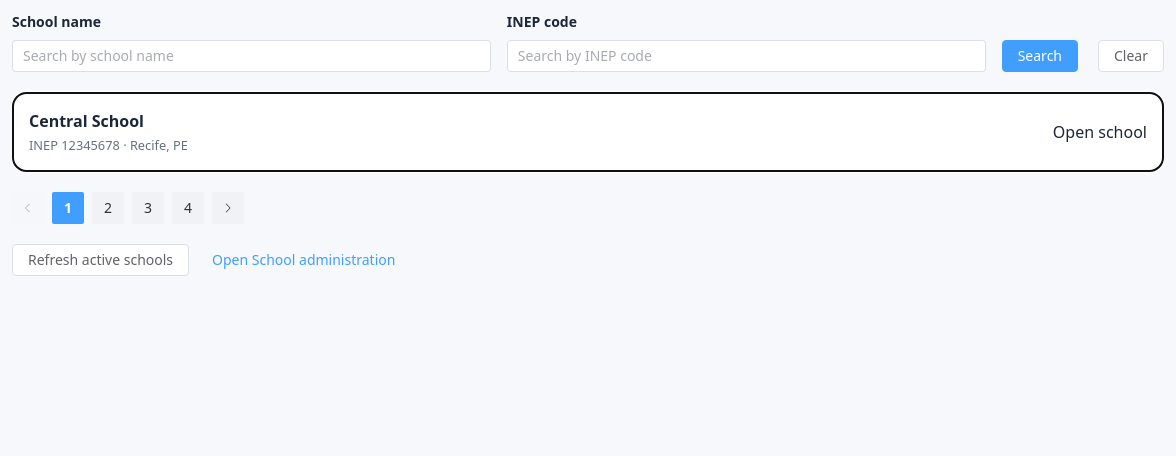
it: SchoolContextSelector › renders loading, empty, filtered-empty, and pagination states distinctly
The image size is (1176, 456).
expect the element showing "1 2 3 4" is shown: met, box [12,192,244,224]
Type "Missing" into the field labelled "School name" at (251, 56), box [23,41,480,71]
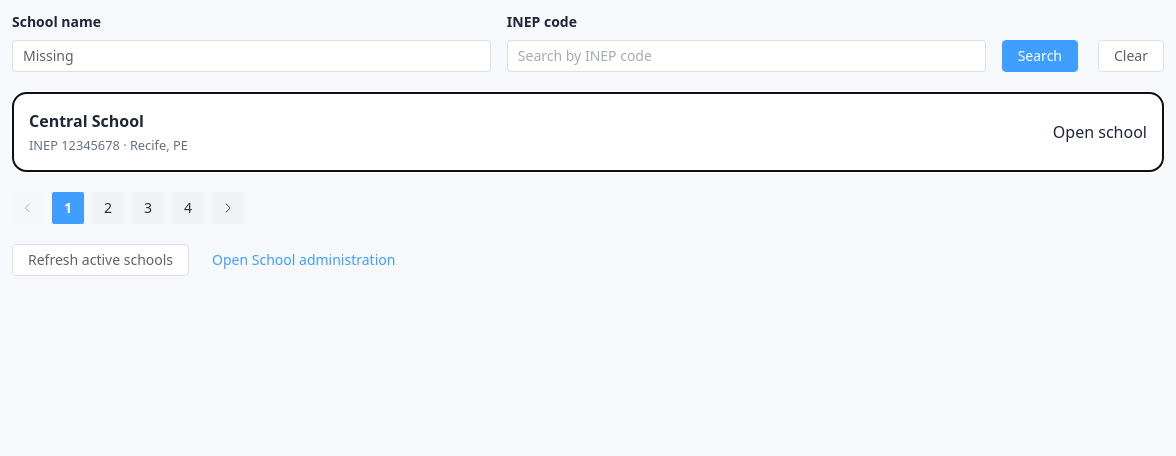
Press Enter in the field labelled "School name", box [23,41,480,71]
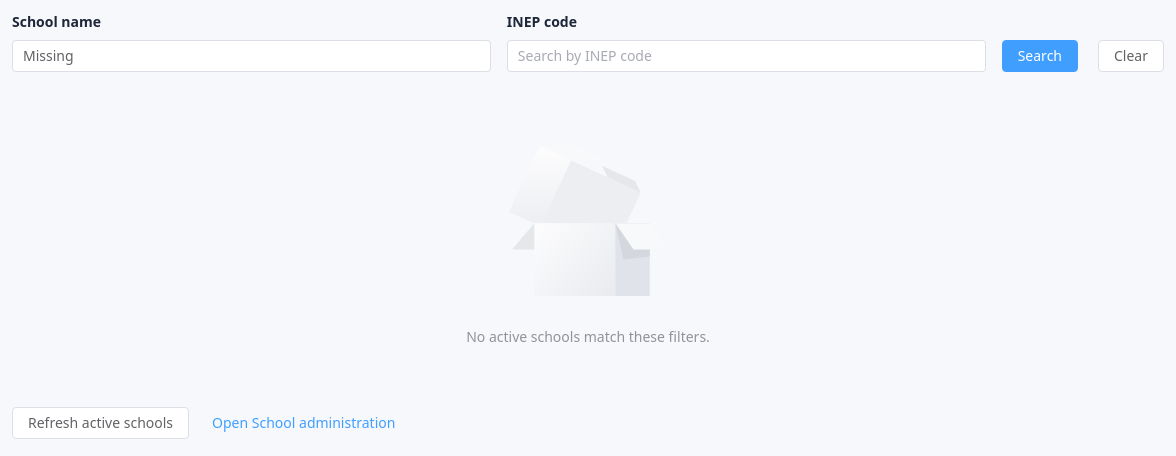
expect the text "No active schools match these filters" is shown: met, box [466,327,710,346]
Click the button with test id "clear-school-filters" at (1131, 56), box [1098,40,1164,72]
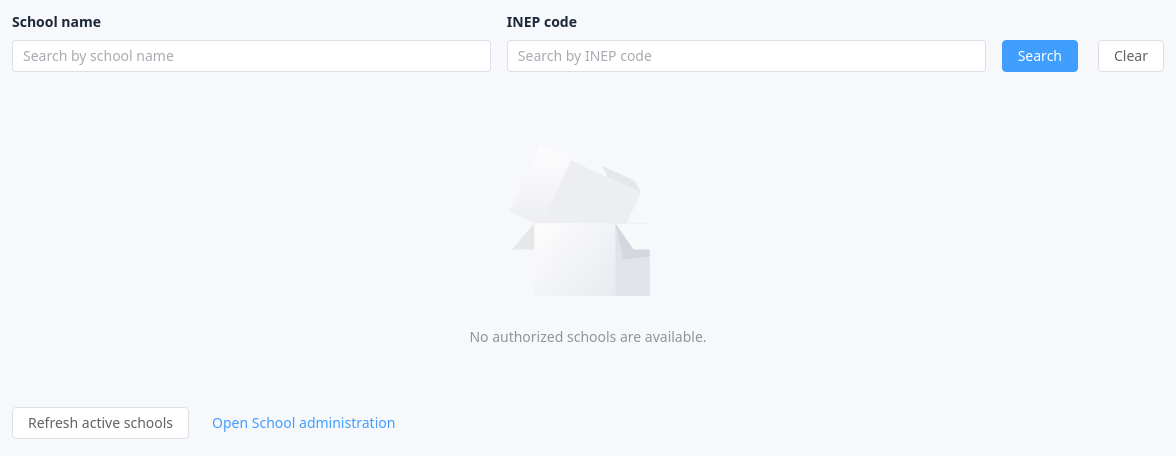
expect the text "No authorized schools are available" is shown: met, box [469,327,707,346]
